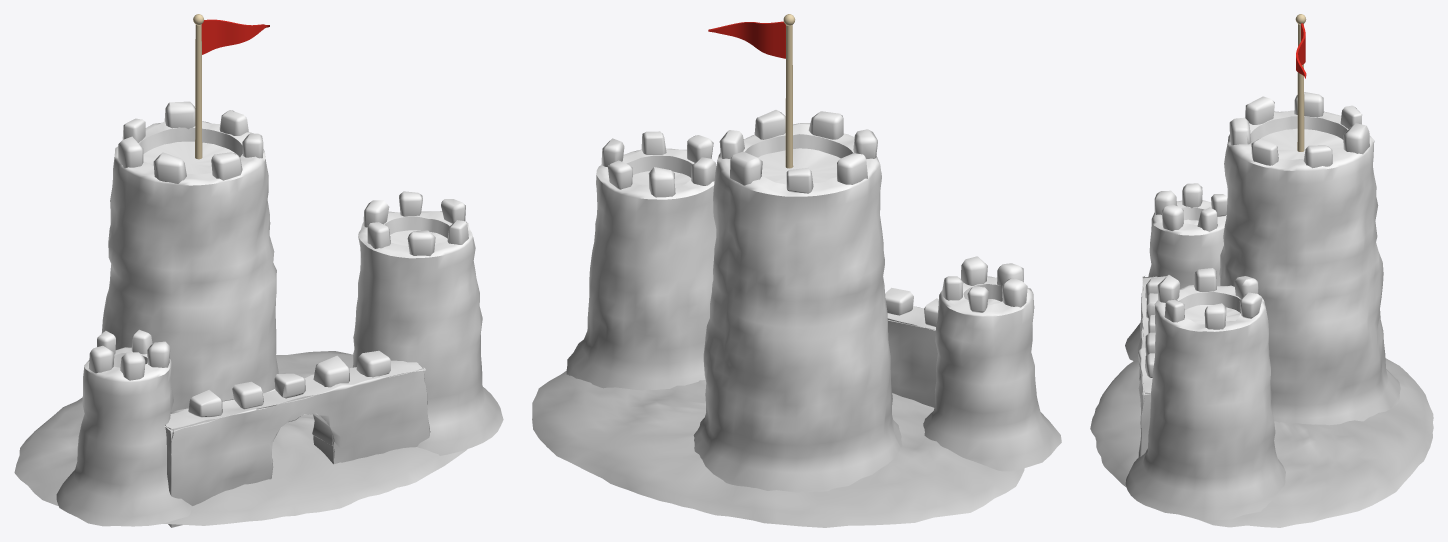
The model's file is prop-sandcastle.glb.
The picture shows the model from 3 angles, left to right: view 1: azimuth 30°, elevation 25°; view 2: azimuth 150°, elevation 25°; view 3: azimuth 270°, elevation 25°; orthographic projection. The views are drawn at different scales.
Parts seen in each view (by area): view 1: body, flag; view 2: body, flag; view 3: body, flag.
Boxes of the visible parts, left/top/right/bottom form: body: left=14, top=101, right=503, bottom=527; flag: left=193, top=14, right=269, bottom=159; body: left=532, top=110, right=1061, bottom=527; flag: left=708, top=14, right=795, bottom=168; body: left=1090, top=92, right=1433, bottom=527; flag: left=1295, top=14, right=1306, bottom=151.
Size of the model in its own units: 0.3075 by 0.2884 by 0.2203.
3 materials, 1 textured.
